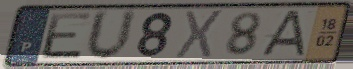8: (134, 10, 176, 60), (224, 11, 264, 57)
A: (256, 9, 308, 58)
E: (39, 11, 95, 61)
U: (84, 8, 140, 63)
X: (172, 8, 226, 60)
